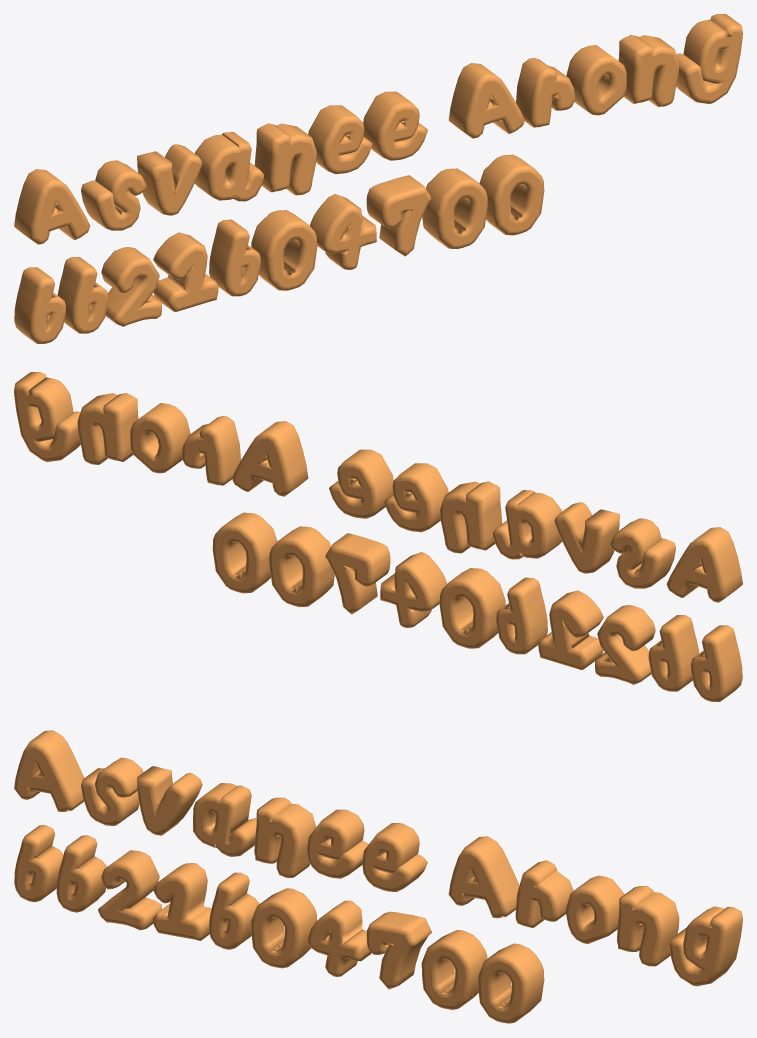
Rendered from name.glb.
3 renders of one model, top to bottom at view 1: azimuth 30°, elevation 25°; view 2: azimuth 150°, elevation 25°; view 3: azimuth 330°, elevation 25°, orthographic.
Visible parts, largest first — view 1: Text.001; view 2: Text.001; view 3: Text.001.
Part boxes in pixels (x1=…): Text.001: x1=14, y1=14, x2=742, y2=343; Text.001: x1=14, y1=372, x2=742, y2=701; Text.001: x1=14, y1=730, x2=742, y2=1023.
Size of the model in its own units: 1.3 by 0.2924 by 0.0623.
